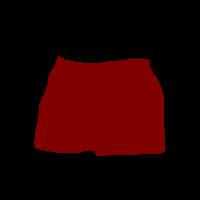mutande: (34, 55, 165, 156)
